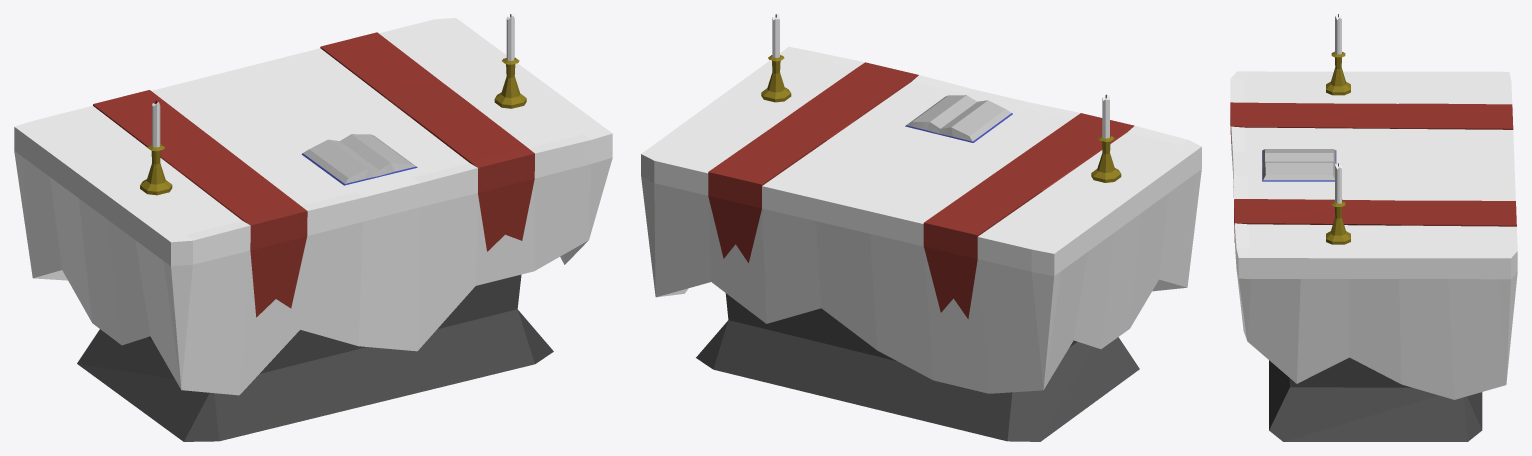
The model's file is Altar.glb.
3 views of the same model, side by side, from view 1: azimuth 30°, elevation 25°; view 2: azimuth 150°, elevation 25°; view 3: azimuth 270°, elevation 25° (orthographic). The views are drawn at different scales.
Parts seen in each view (by area): view 1: Cube.003; view 2: Cube.003; view 3: Cube.003.
Part boxes in pixels (<box>): Cube.003: <box>14,14,612,441</box>; Cube.003: <box>641,14,1201,441</box>; Cube.003: <box>1230,14,1517,441</box>.
Size of the model in its own units: 1.92 by 1.31 by 1.25.
